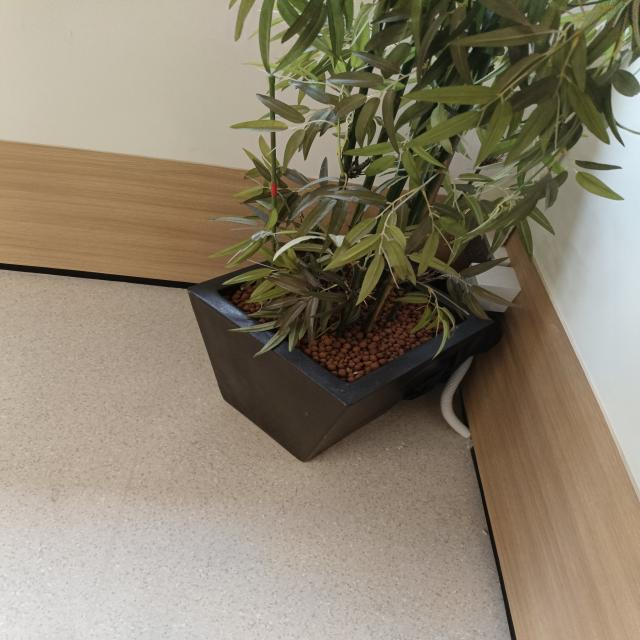Pot: (187, 235, 496, 460)
